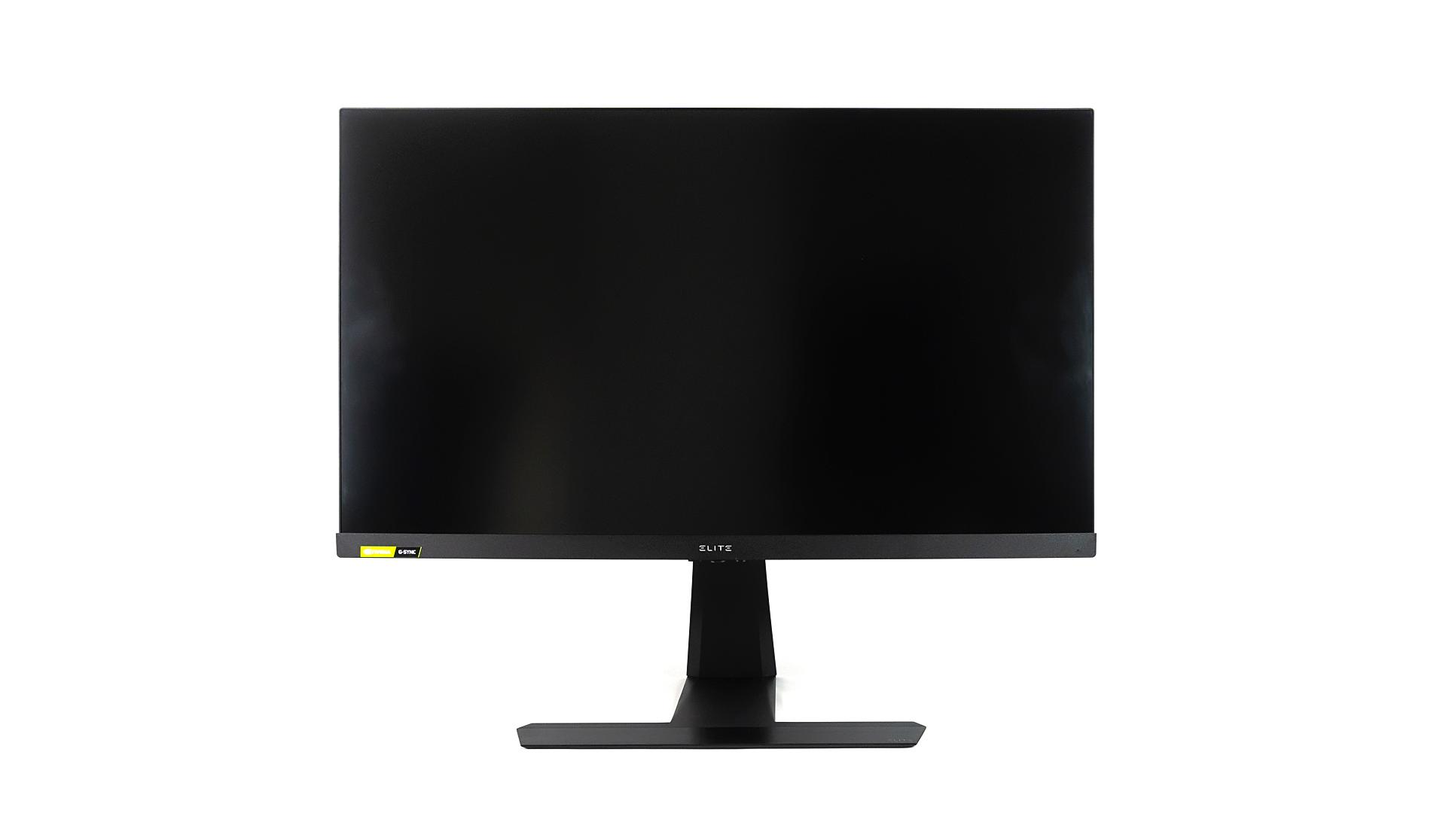monitor: (330, 98, 1103, 757)
